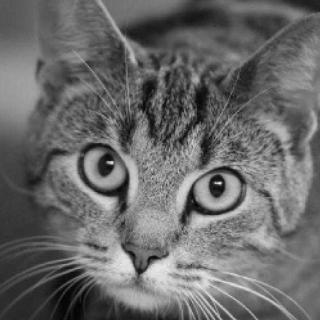cat: (22, 0, 320, 315)
nose: (118, 205, 177, 286)
